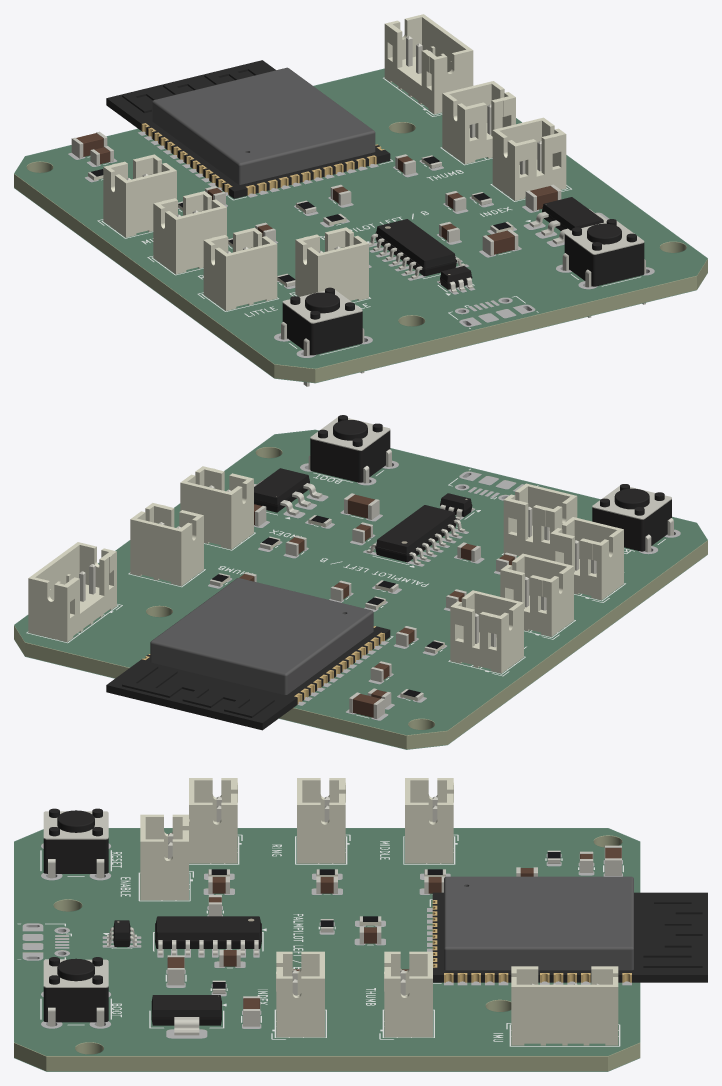
File: carrier.glb
3 views of the same model, one above another, from view 1: azimuth 30°, elevation 25°; view 2: azimuth 150°, elevation 25°; view 3: azimuth 270°, elevation 25° (orthographic). The views are drawn at different scales.
Parts seen in each view (by area): view 1: =>[0:1:1:26], =>[0:1:1:24], =>[0:1:1:5] (×6), =>[0:1:1:15], =>[0:1:1:3] (×2), =>[0:1:1:21], =>[0:1:1:22], =>[0:1:1:19], =>[0:1:1:7] (×3), =>[0:1:1:17], =>[0:1:1:23], =>[0:1:1:25] (+1 smaller); view 2: =>[0:1:1:26], =>[0:1:1:24], =>[0:1:1:5] (×6), =>[0:1:1:15], =>[0:1:1:3] (×2), =>[0:1:1:21], =>[0:1:1:22], =>[0:1:1:19], =>[0:1:1:17], =>[0:1:1:23], =>[0:1:1:7] (×2), =>[0:1:1:25] (+1 smaller); view 3: =>[0:1:1:26], =>[0:1:1:24], =>[0:1:1:15], =>[0:1:1:5] (×6), =>[0:1:1:3] (×2), =>[0:1:1:21], =>[0:1:1:22], =>[0:1:1:19], =>[0:1:1:23], =>[0:1:1:17], =>[0:1:1:7] (×3), =>[0:1:1:9] (+1 smaller).
Boxes of the visible parts, bbox=[...] form: =>[0:1:1:26]: bbox=[14, 70, 707, 382]; =>[0:1:1:24]: bbox=[14, 68, 707, 368]; =>[0:1:1:5] (×6): bbox=[103, 81, 566, 310]; =>[0:1:1:15]: bbox=[106, 60, 390, 198]; =>[0:1:1:3] (×2): bbox=[281, 219, 645, 386]; =>[0:1:1:21]: bbox=[384, 14, 473, 114]; =>[0:1:1:22]: bbox=[68, 131, 654, 357]; =>[0:1:1:19]: bbox=[368, 219, 465, 279]; =>[0:1:1:7] (×3): bbox=[71, 131, 561, 255]; =>[0:1:1:17]: bbox=[529, 197, 606, 244]; =>[0:1:1:23]: bbox=[87, 77, 641, 355]; =>[0:1:1:25]: bbox=[14, 188, 707, 383]; =>[0:1:1:26]: bbox=[14, 430, 707, 749]; =>[0:1:1:24]: bbox=[14, 429, 707, 735]; =>[0:1:1:5] (×6): bbox=[130, 466, 623, 673]; =>[0:1:1:15]: bbox=[106, 578, 390, 730]; =>[0:1:1:3] (×2): bbox=[308, 415, 673, 552]; =>[0:1:1:21]: bbox=[28, 542, 116, 641]; =>[0:1:1:22]: bbox=[208, 461, 680, 720]; =>[0:1:1:19]: bbox=[366, 505, 465, 564]; =>[0:1:1:17]: bbox=[254, 468, 322, 515]; =>[0:1:1:23]: bbox=[26, 468, 665, 718]; =>[0:1:1:7] (×2): bbox=[344, 493, 384, 718]; =>[0:1:1:25]: bbox=[14, 554, 707, 749]; =>[0:1:1:26]: bbox=[14, 829, 640, 1071]; =>[0:1:1:24]: bbox=[14, 828, 640, 1055]; =>[0:1:1:15]: bbox=[432, 876, 707, 982]; =>[0:1:1:5] (×6): bbox=[140, 778, 453, 1037]; =>[0:1:1:3] (×2): bbox=[43, 808, 108, 1026]; =>[0:1:1:21]: bbox=[511, 966, 618, 1045]; =>[0:1:1:22]: bbox=[22, 843, 631, 1038]; =>[0:1:1:19]: bbox=[155, 916, 261, 955]; =>[0:1:1:23]: bbox=[17, 834, 623, 1046]; =>[0:1:1:17]: bbox=[151, 995, 221, 1035]; =>[0:1:1:7] (×3): bbox=[167, 845, 621, 1026]; =>[0:1:1:9]: bbox=[107, 920, 136, 946].
Bounding box in the file's own units: 0.05 × 0.0095 × 0.0642.
